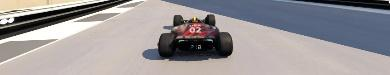Car: (157, 14, 233, 56)
Solid White and black: (0, 0, 146, 74)
